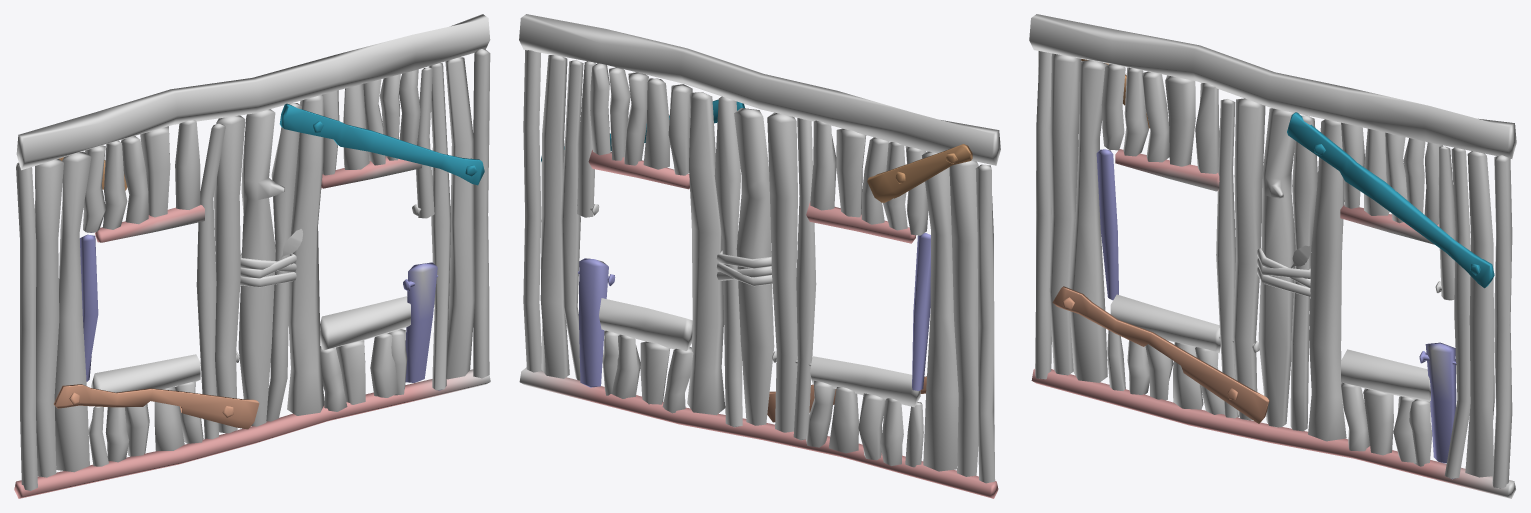
The model's file is PBW_W1_Windows.glb.
3 views of the same model, side by side, from view 1: azimuth 30°, elevation 25°; view 2: azimuth 150°, elevation 25°; view 3: azimuth 330°, elevation 25° (orthographic).
Visible parts, largest first — view 1: PBW_W1_Windows; view 2: PBW_W1_Windows; view 3: PBW_W1_Windows.
Boxes of the visible parts, box(x1,y1,x2,y2) form: PBW_W1_Windows: box(14, 14, 490, 498); PBW_W1_Windows: box(519, 14, 1000, 498); PBW_W1_Windows: box(1029, 14, 1516, 498).
Bounding box in the file's own units: 5.12 × 3.88 × 0.4804.
